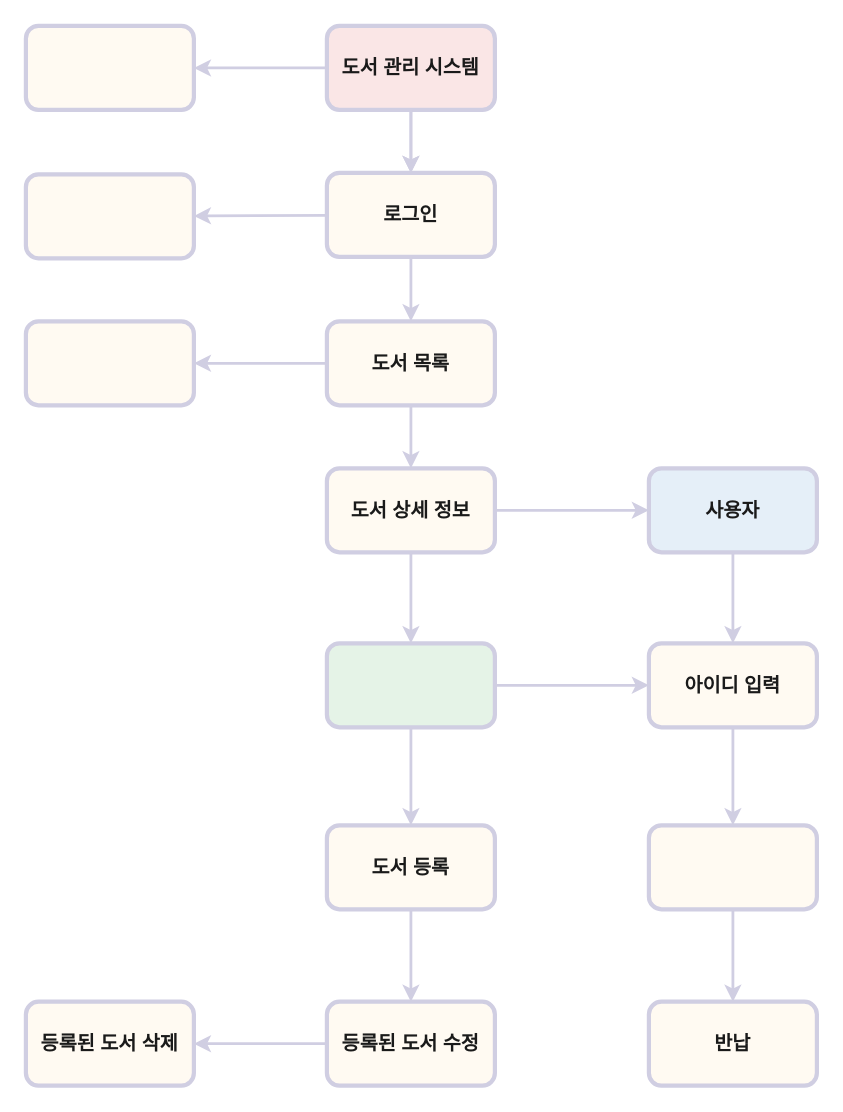
Some shapes in this 843 by 1112 pixel diagram are drawn without their labels. The shapes that lost their labels are listed below. From the top down, each one's box as (x1, y1, x2, y2) in pixels, then its label:
(23, 23, 195, 111): 회원가입
(23, 172, 195, 260): 대출 이력 조회
(23, 318, 195, 407): 도서 검색
(324, 640, 496, 729): 관리자
(646, 822, 818, 911): 대출
